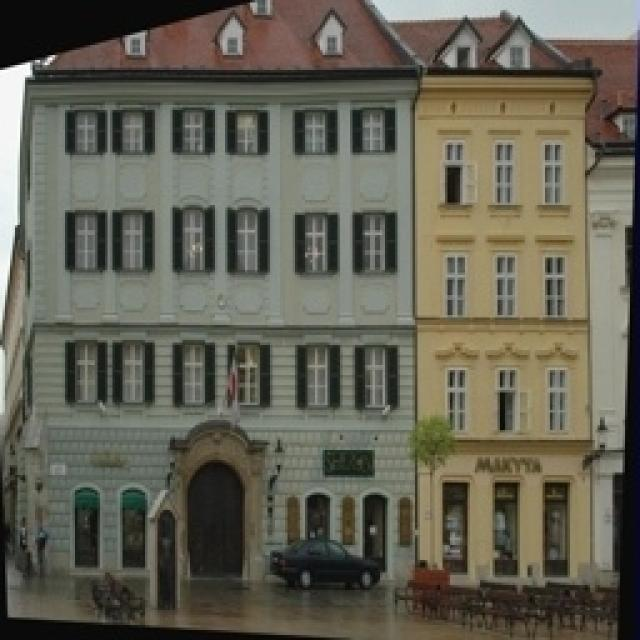building: (28, 0, 408, 640), (422, 0, 600, 595)
